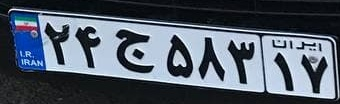character: (109, 22, 158, 75), (225, 34, 259, 87), (162, 30, 196, 81), (73, 19, 105, 73), (42, 18, 73, 72), (197, 34, 227, 86), (300, 52, 331, 96), (270, 48, 299, 93)
